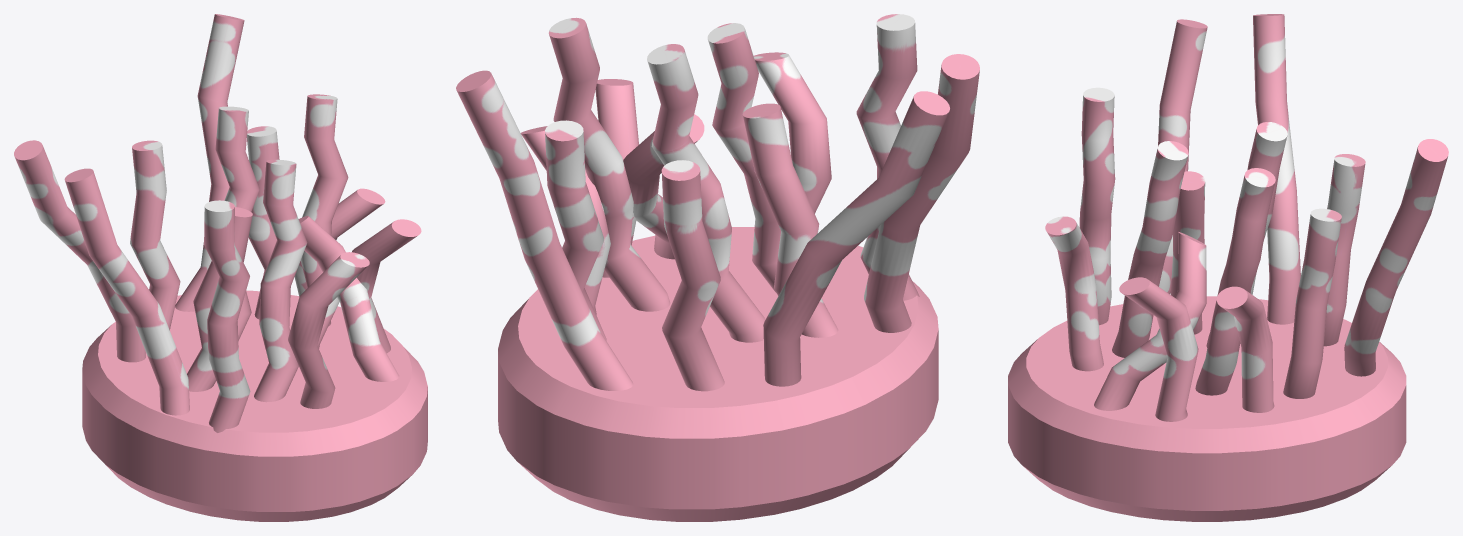
Rendered from coral-sunfish.fbx.
3 views of the same model, side by side, from view 1: azimuth 30°, elevation 25°; view 2: azimuth 150°, elevation 25°; view 3: azimuth 270°, elevation 25° (orthographic). The views are drawn at different scales.
Parts seen in each view (by area): view 1: node_id204; view 2: node_id204; view 3: node_id204.
Boxes of the visible parts, x1,y1,x2,y2 form: node_id204: [14, 14, 427, 521]; node_id204: [456, 14, 979, 521]; node_id204: [1008, 14, 1448, 521].
Size of the model in its own units: 0.4175 by 0.3836 by 0.4337.
Materials: 1 (1 with a texture image).
